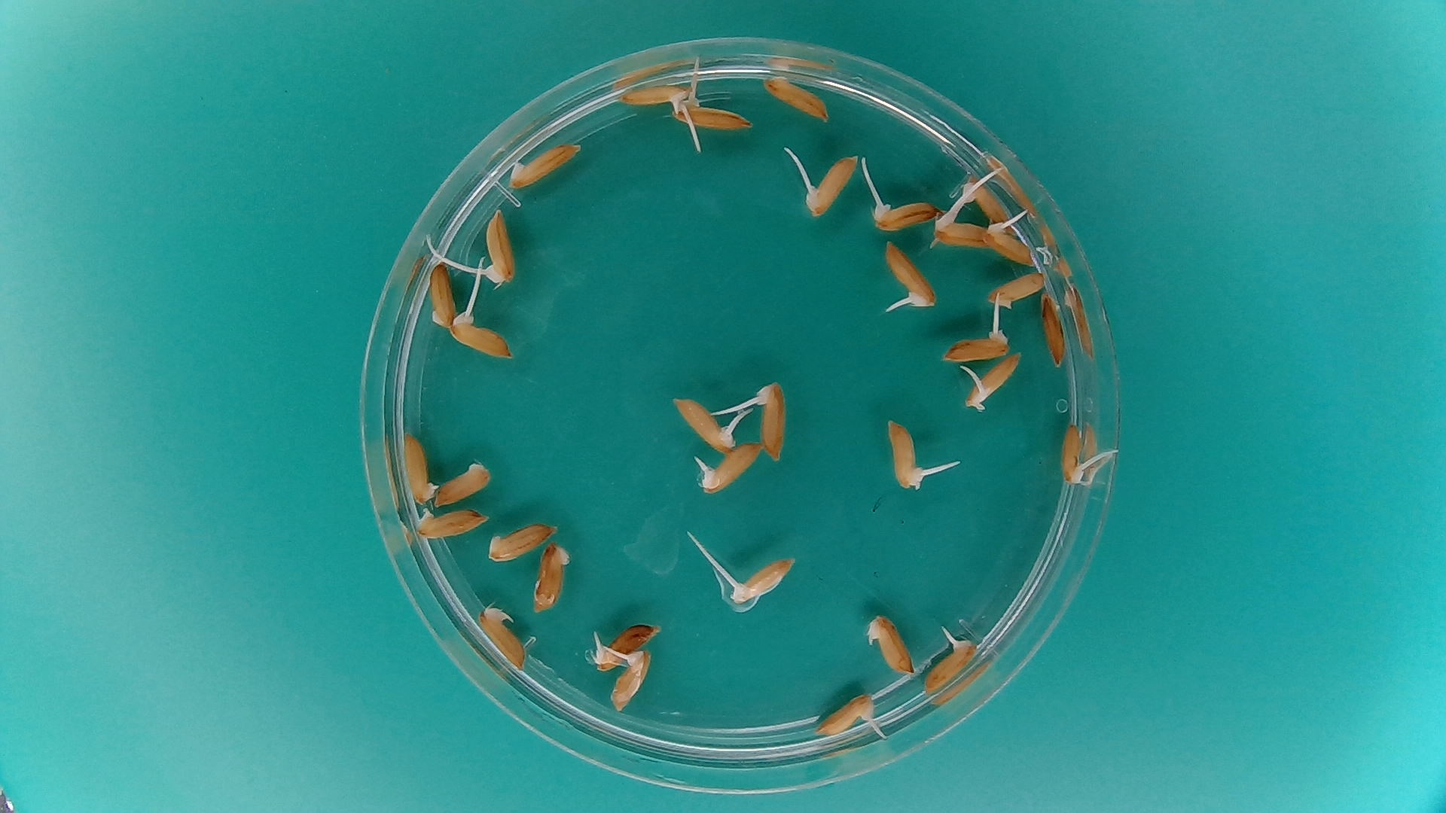no: (504, 139, 579, 193), (529, 536, 572, 617), (761, 71, 828, 122), (865, 612, 917, 677), (484, 519, 558, 564), (399, 428, 441, 507), (984, 267, 1048, 313), (435, 458, 494, 506), (425, 260, 463, 333), (413, 505, 490, 540), (1039, 289, 1069, 369)
yes: (476, 601, 530, 675), (691, 441, 763, 495), (676, 394, 743, 452), (881, 238, 934, 311), (587, 623, 661, 673), (727, 556, 796, 607), (804, 153, 859, 215), (477, 209, 518, 289), (963, 179, 1020, 236), (923, 634, 974, 695), (811, 691, 878, 737), (962, 360, 1020, 412), (450, 313, 512, 359), (755, 382, 792, 459), (611, 647, 653, 714), (883, 425, 923, 491), (871, 198, 941, 231), (984, 221, 1032, 267), (616, 81, 697, 107), (1057, 421, 1089, 486), (673, 103, 749, 130), (944, 329, 1006, 362), (936, 215, 994, 249)
